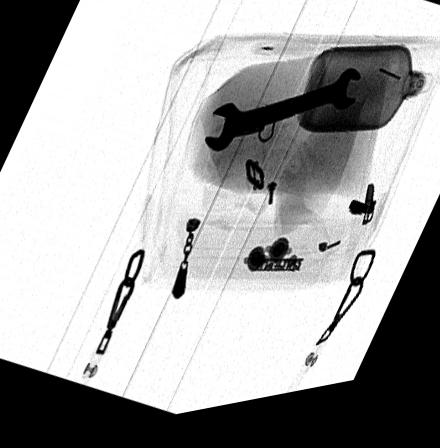Wrench: (202, 79, 363, 162)
